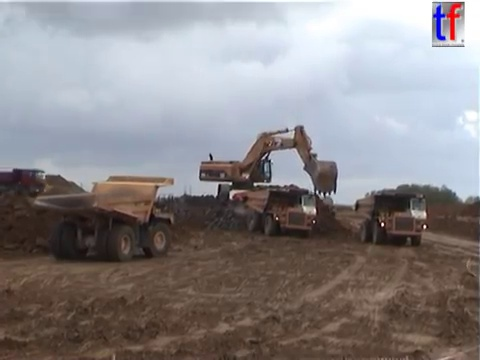excavator: (197, 123, 340, 205), (229, 184, 312, 213)
truck: (31, 173, 175, 263), (353, 192, 428, 247), (240, 186, 318, 237), (1, 167, 47, 198), (308, 193, 335, 219)
